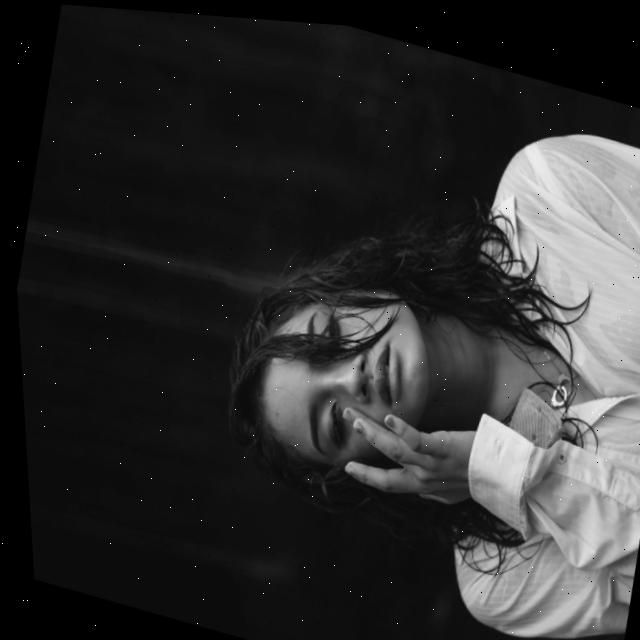natural: (247, 281, 440, 481)
